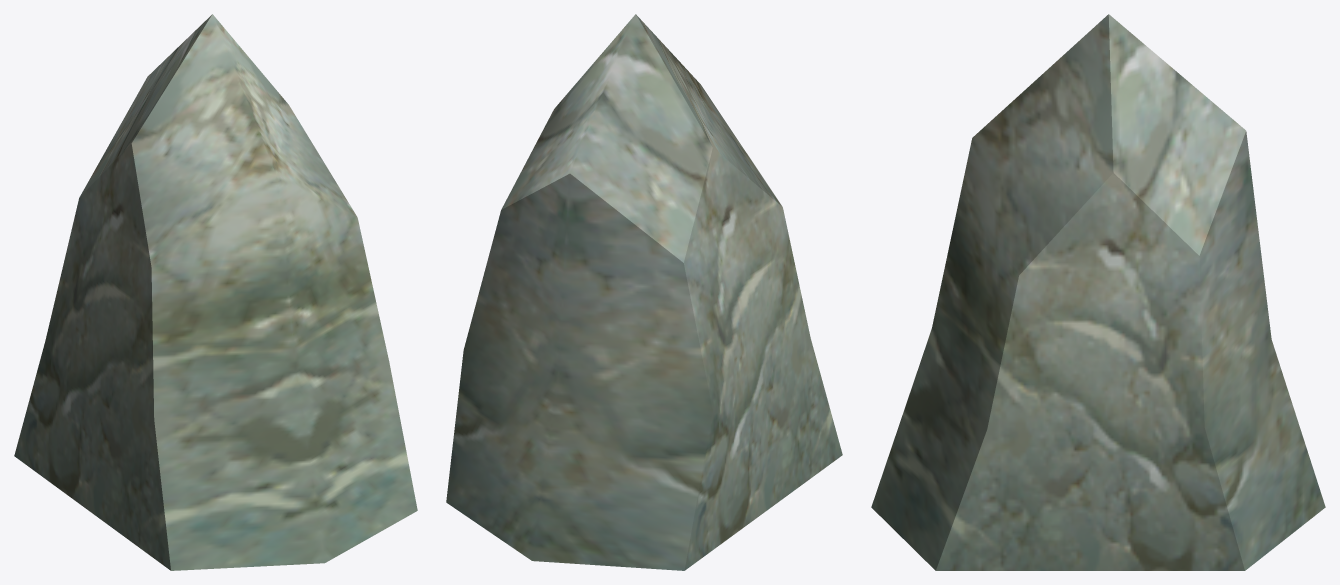
File: QSMY_MJ_Shan03.FBX
3 renders of one model, left to right at view 1: azimuth 30°, elevation 25°; view 2: azimuth 150°, elevation 25°; view 3: azimuth 270°, elevation 25°, orthographic. The views are drawn at different scales.
Visible parts, largest first — view 1: Box51; view 2: Box51; view 3: Box51.
Boxes of the visible parts, left/top/right/bottom form: Box51: left=14, top=14, right=417, bottom=570; Box51: left=446, top=14, right=842, bottom=570; Box51: left=871, top=14, right=1325, bottom=570.
Bounding box in the file's own units: 11.76 × 21.11 × 17.63.
